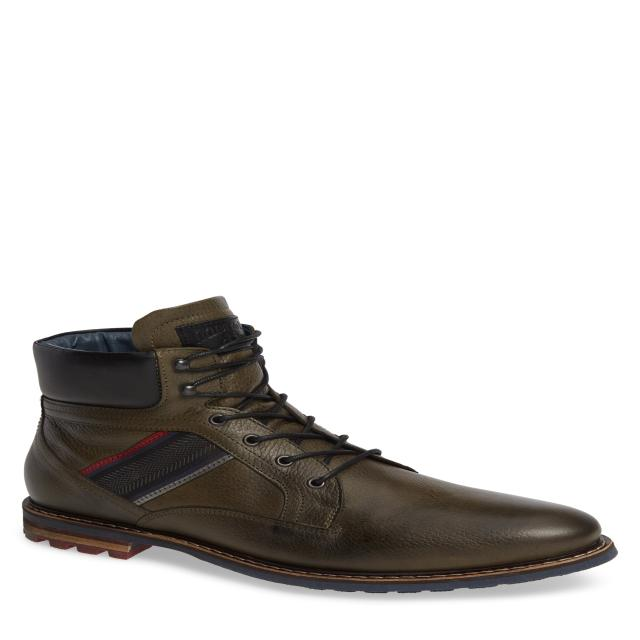boot: (20, 288, 624, 602)
